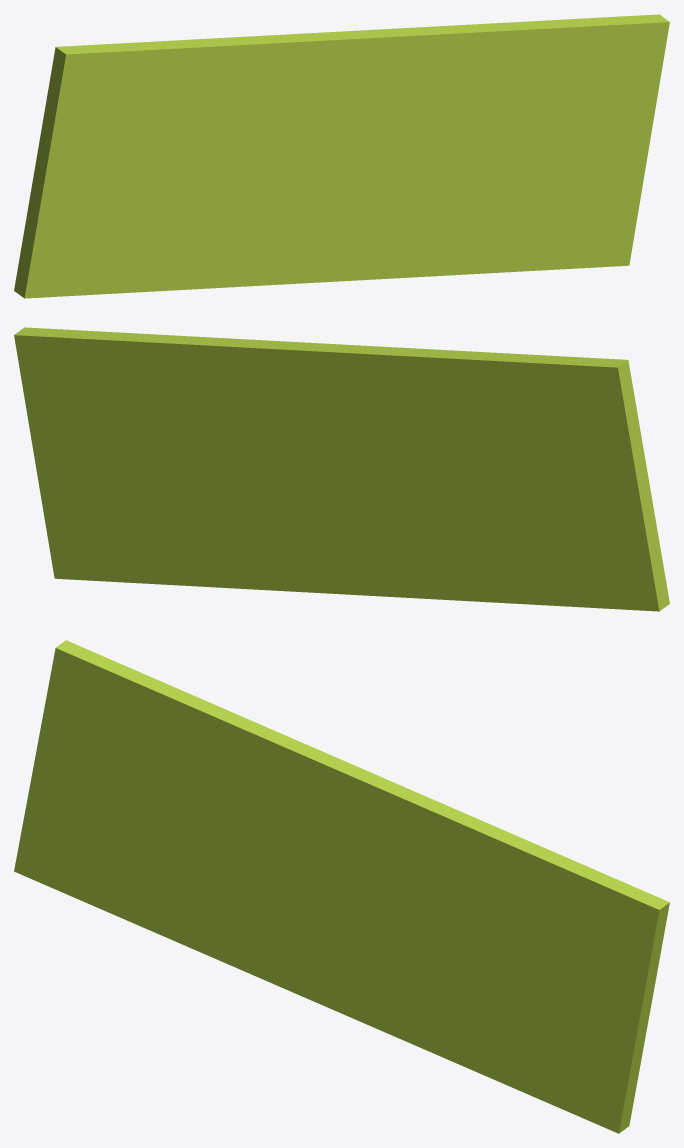
The picture shows the model from 3 angles, top to bottom: view 1: azimuth 30°, elevation 25°; view 2: azimuth 150°, elevation 25°; view 3: azimuth 330°, elevation 25°; orthographic projection.
Visible parts, largest first — view 1: osm-way27917482-F1; view 2: osm-way27917482-F1; view 3: osm-way27917482-F1.
Part boxes in pixels (bbox=[...]): osm-way27917482-F1: bbox=[14, 14, 669, 298]; osm-way27917482-F1: bbox=[14, 327, 669, 611]; osm-way27917482-F1: bbox=[14, 640, 669, 1133].
Size of the model in its own units: 5.3 by 2.74 by 0.15.
